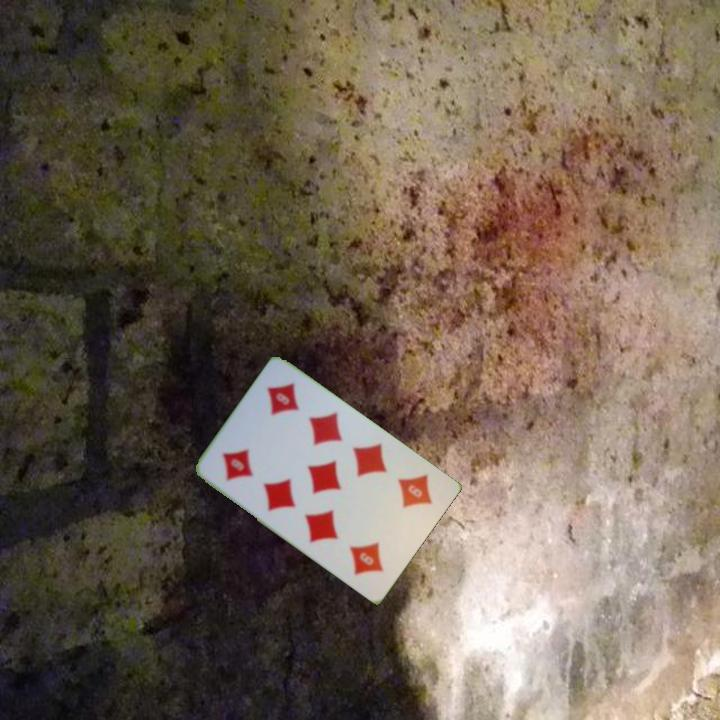d_9.png: (204, 416, 288, 502), (364, 455, 448, 541)
